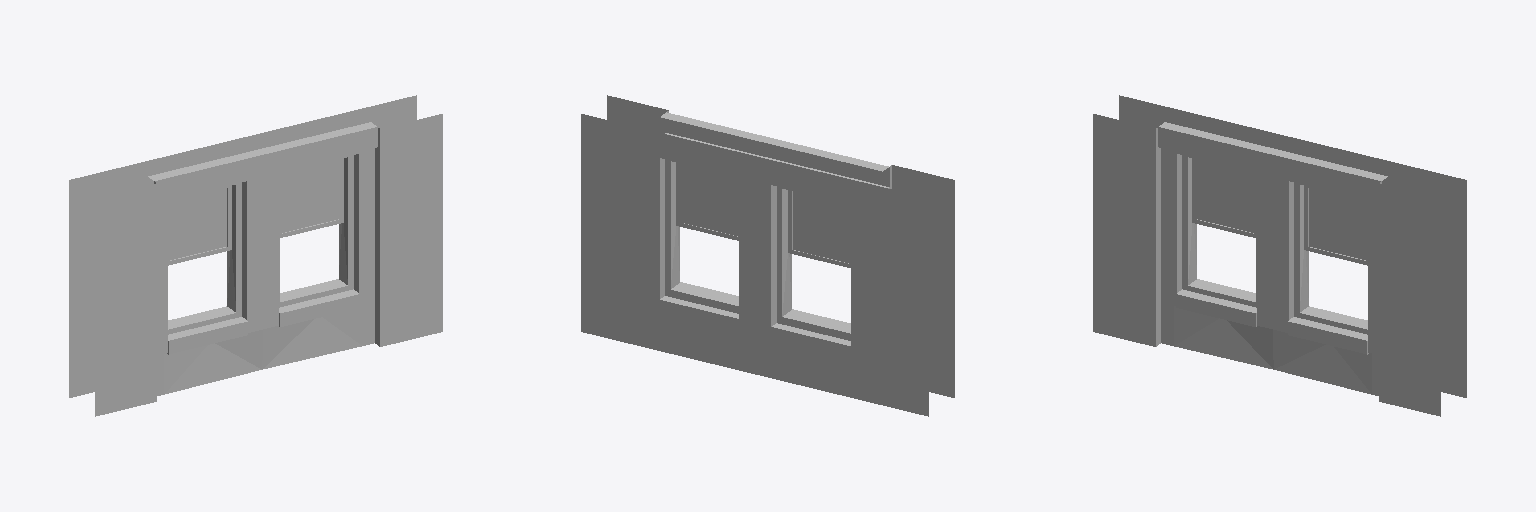
The model's file is Building_Mid_Straight_A_LOD1.obj.
3 renders of one model, left to right at view 1: azimuth 30°, elevation 25°; view 2: azimuth 150°, elevation 25°; view 3: azimuth 330°, elevation 25°, orthographic.
Parts seen in each view (by area): view 1: Building_Mid_Straight_A_LOD1 Building_Mid_Straight_A; view 2: Building_Mid_Straight_A_LOD1 Building_Mid_Straight_A; view 3: Building_Mid_Straight_A_LOD1 Building_Mid_Straight_A.
Boxes of the visible parts, box(x1,y1,x2,y2) form: Building_Mid_Straight_A_LOD1 Building_Mid_Straight_A: box(69, 95, 442, 416); Building_Mid_Straight_A_LOD1 Building_Mid_Straight_A: box(581, 95, 954, 416); Building_Mid_Straight_A_LOD1 Building_Mid_Straight_A: box(1093, 95, 1466, 416).
Bounding box in the file's own units: 500 × 300 × 63.11.